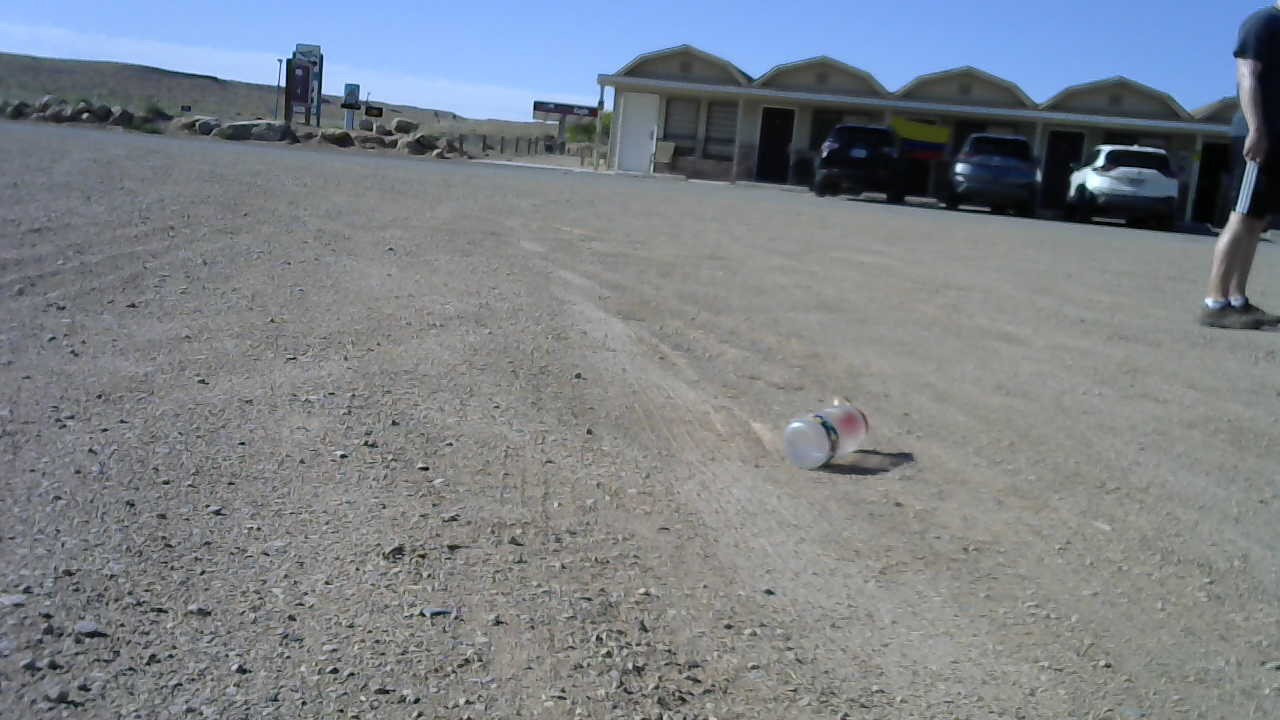bottle: (783, 378, 873, 472)
